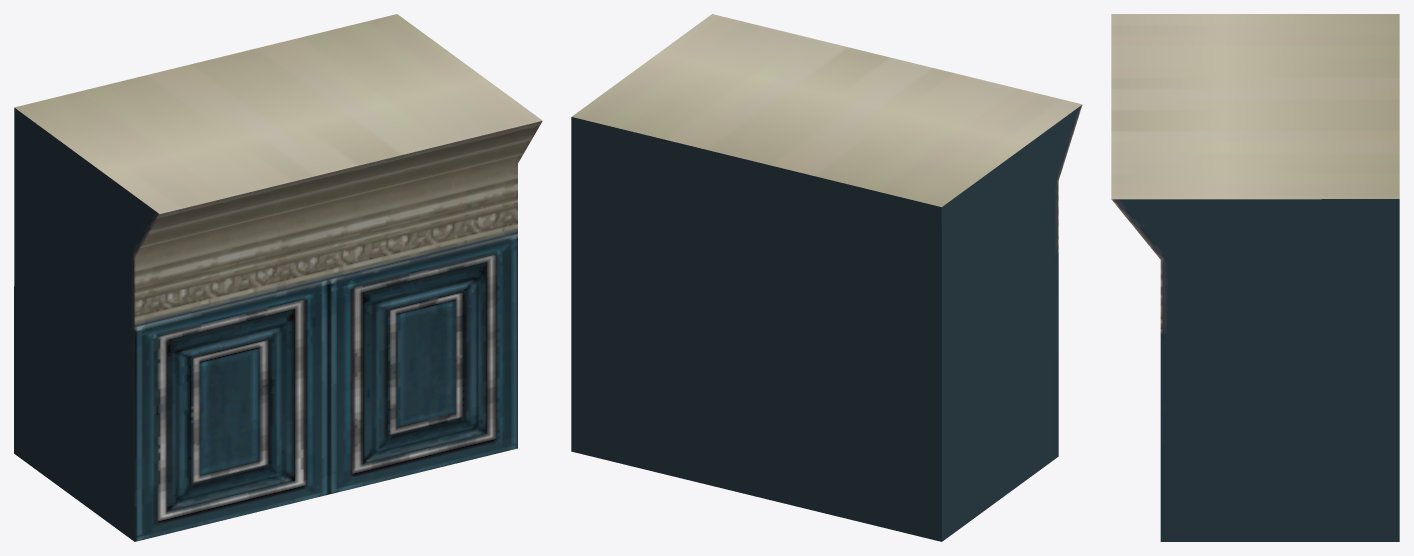
Rendered from furni_0201125_03.FBX.
3 views of the same model, side by side, from view 1: azimuth 30°, elevation 25°; view 2: azimuth 150°, elevation 25°; view 3: azimuth 270°, elevation 25° (orthographic). The views are drawn at different scales.
Visible parts, largest first — view 1: furni_0201125_03; view 2: furni_0201125_03; view 3: furni_0201125_03.
Part boxes in pixels (<box>): furni_0201125_03: <box>14,14,542,541</box>; furni_0201125_03: <box>571,14,1082,541</box>; furni_0201125_03: <box>1111,14,1399,541</box>.
Size of the model in its own units: 81.43 by 70.29 by 53.58.
Materials: 1 (1 with a texture image).
